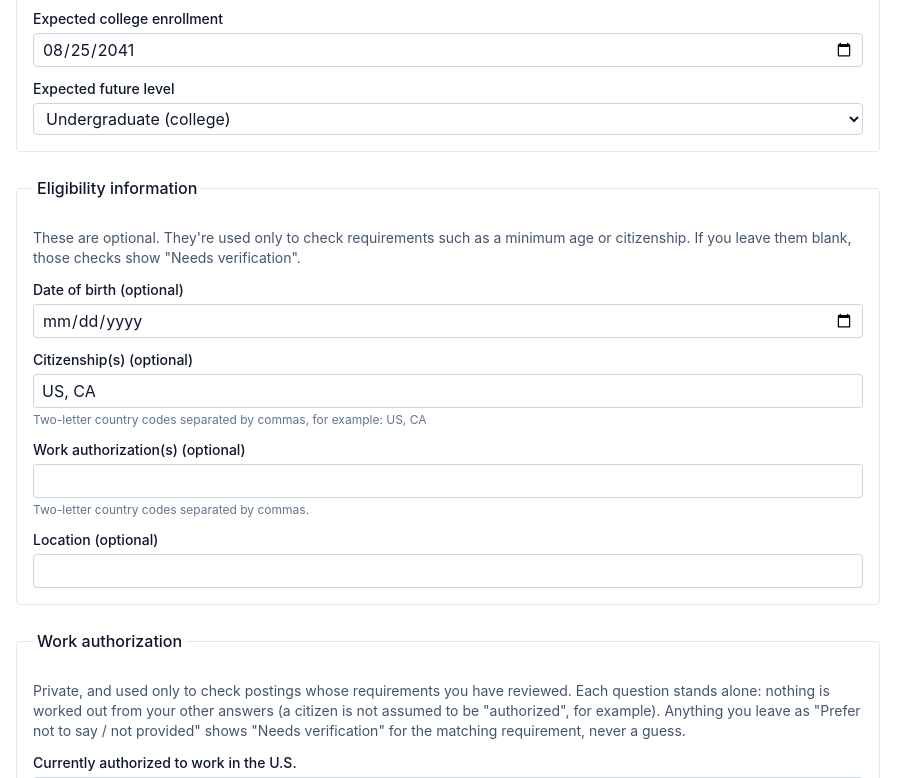
profile editor › shows backend validation errors next to the field
The width and height of the screenshot is (897, 778).
(page scrolled)
Replace the text in the field labelled "Citizenship(s) (optional)" with "UK": (448, 391) [33, 374, 863, 408]
(page scrolled)
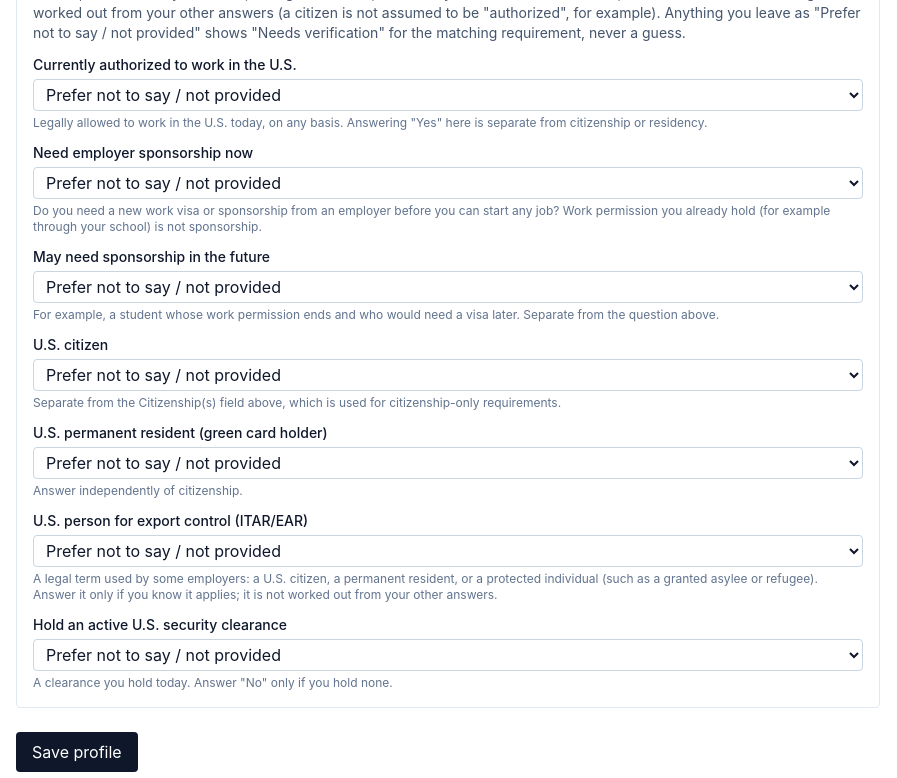
Click the button "Save profile": (77, 752) [16, 732, 138, 772]
(page scrolled)
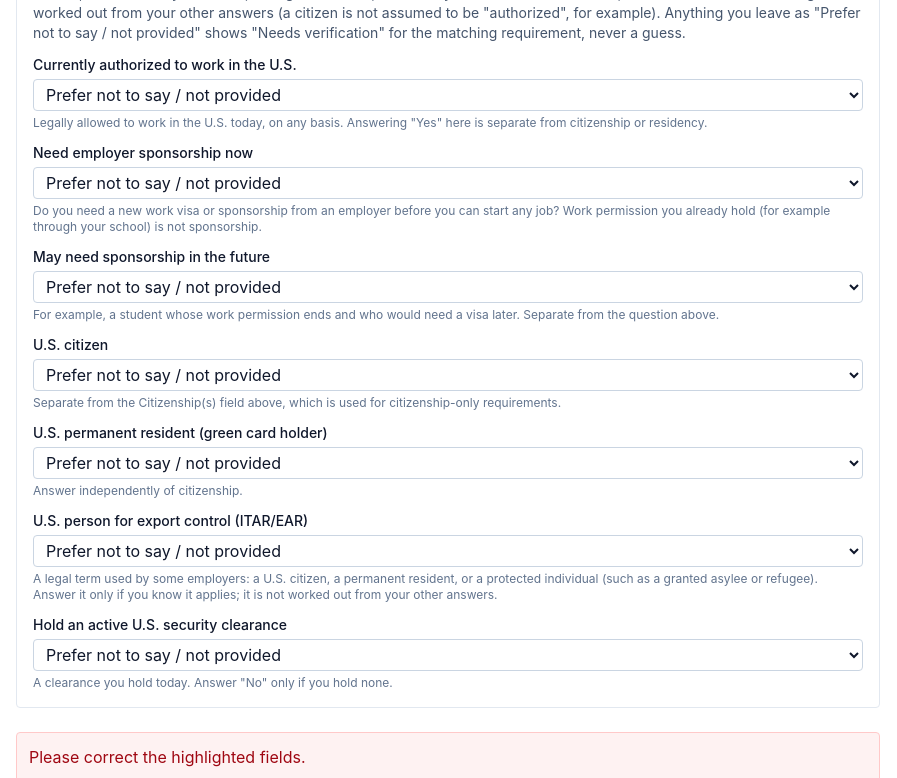
expect the message reads "Please correct the highlighted fields.": met, box [29, 747, 306, 767]
